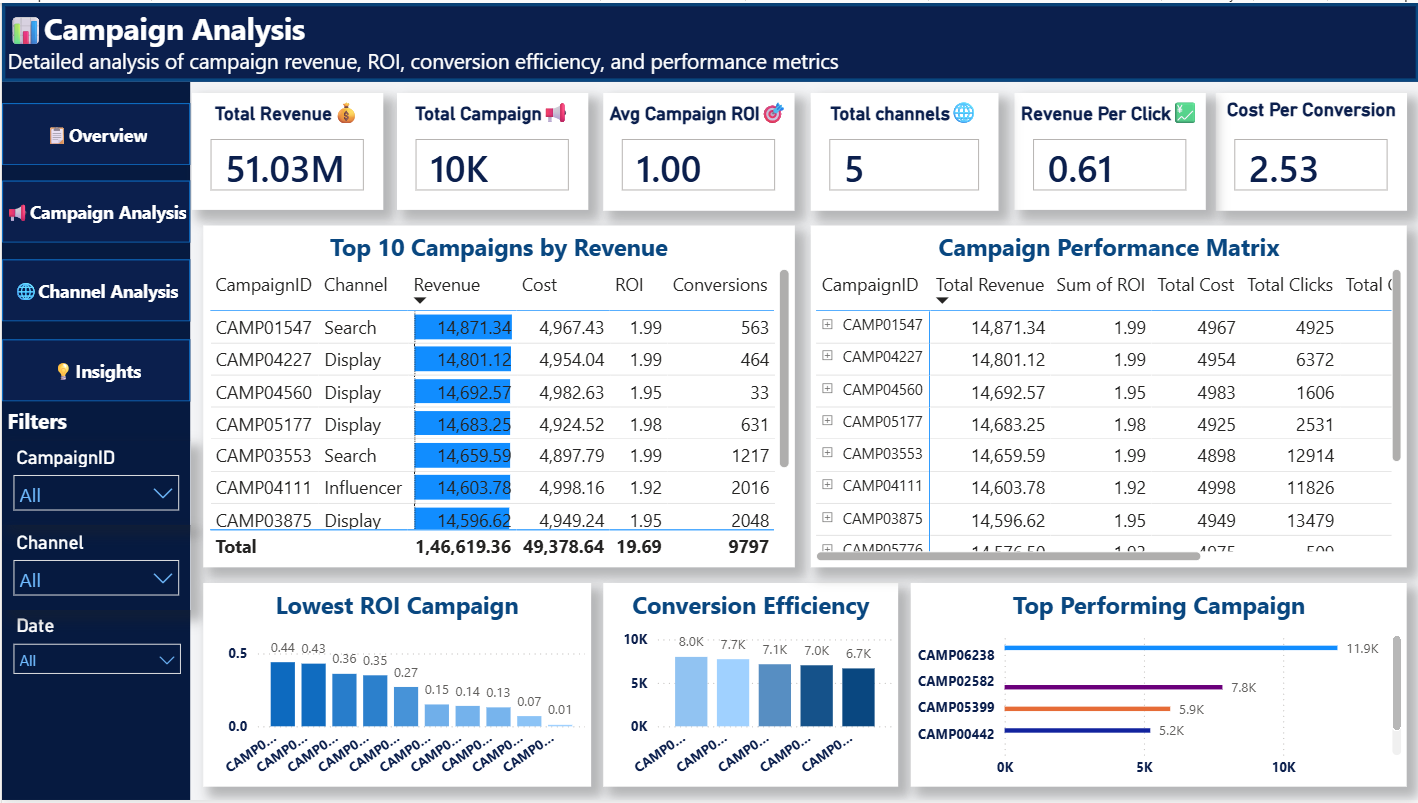

What the dashboard file says about the page in this screenshot:
{"tool":"powerbi","page":{"name":"Campaign analysis","canvas":[1280,720],"ordinal":1},"visuals":[{"type":"shape","box":[0,71.1,170,648.9],"z":0},{"type":"textbox","box":[0,0,274.4,71.1],"z":1000},{"type":"shape","box":[0,0,1280,71.1],"z":2000},{"type":"textbox","box":[0,0,999.3,71.1],"z":3000},{"type":"slicer","fields":{"Values":["marketing_campaign_performance_.StartDate.Variation.Date Hierarchy.Year","marketing_campaign_performance_.StartDate.Variation.Date Hierarchy.Quarter","marketing_campaign_performance_.StartDate.Variation.Date Hierarchy.Month"]},"box":[0,547.1,171.4,71.4],"z":4000},{"type":"cardVisual","title":"Total Revenue💰","fields":{"Data":["marketing_campaign_performance_.TTOTAL REVENUE"]},"box":[171.4,81.4,172.9,105.7],"z":5000},{"type":"cardVisual","title":"Total Campaign📢","fields":{"Data":["marketing_campaign_performance_.Total Campaigns"]},"box":[357.1,81.4,172.9,105.7],"z":6000},{"type":"cardVisual","title":"Avg Campaign ROI🎯","fields":{"Data":["marketing_campaign_performance_.Avg campaign ROI"]},"box":[543.1,81.3,172.8,106.1],"z":7000},{"type":"cardVisual","title":"Cost Per Conversion","fields":{"Data":["marketing_campaign_performance_.Cost Per Conversion"]},"box":[1096.4,81.3,172.8,106.1],"z":8000},{"type":"cardVisual","title":"Revenue Per Click💹","fields":{"Data":["marketing_campaign_performance_.REVENUE PER CLICK"]},"box":[914.3,81.4,172.9,105.7],"z":9000},{"type":"cardVisual","title":"Total channels🌐","fields":{"Data":["marketing_campaign_performance_.Total Channels"]},"box":[730.6,81.3,169.4,106.1],"z":10000},{"type":"slicer","fields":{"Values":["marketing_campaign_performance_.CampaignID"]},"box":[0,395.7,170,75.7],"z":11000},{"type":"slicer","fields":{"Values":["marketing_campaign_performance_.Channel"]},"box":[0,471.4,170,75.7],"z":12000},{"type":"textbox","box":[0,360,170,35.7],"z":13000},{"type":"tableEx","title":"Top 10 Campaigns by Revenue","fields":{"Values":["marketing_campaign_performance_.CampaignID","marketing_campaign_performance_.Channel","Sum(marketing_campaign_performance_.Revenue_USD)","Sum(marketing_campaign_performance_.Cost_USD)","Sum(marketing_campaign_performance_.ROI)","Sum(marketing_campaign_performance_.Conversions)"]},"box":[181.4,201.4,534.3,308.6],"z":14000},{"type":"clusteredColumnChart","title":"Lowest ROI Campaign","fields":{"Y":["Sum(marketing_campaign_performance_.ROI)"],"Category":["marketing_campaign_performance_.CampaignID"]},"box":[181.8,523.9,350,184.1],"z":15000},{"type":"clusteredColumnChart","title":"Conversion Efficiency","fields":{"Y":["Sum(marketing_campaign_performance_.Conversions)"],"Category":["marketing_campaign_performance_.CampaignID"]},"box":[543.1,523.9,266.5,184.1],"z":16000},{"type":"pivotTable","title":"Campaign Performance Matrix","fields":{"Rows":["marketing_campaign_performance_.CampaignID","marketing_campaign_performance_.Channel"],"Values":["marketing_campaign_performance_.TTOTAL REVENUE","Sum(marketing_campaign_performance_.ROI)","marketing_campaign_performance_.TOTAL COST","marketing_campaign_performance_.TOTAL CLICKS","marketing_campaign_performance_.TOTAL CONVERSION","marketing_campaign_performance_.CONVERSION RATE"]},"box":[730,201.4,538.6,308.6],"z":17000},{"type":"clusteredBarChart","title":"Top Performing Campaign","fields":{"Y":["marketing_campaign_performance_.TTOTAL REVENUE"],"Series":["marketing_campaign_performance_.Channel"],"Category":["marketing_campaign_performance_.CampaignID"]},"box":[820.9,523.9,448.3,184.1],"z":18000},{"type":"shape","box":[0,90,170,56.2],"z":19000},{"type":"shape","box":[0,160,170,56.2],"z":20000},{"type":"shape","box":[0,231.2,170,56.2],"z":21000},{"type":"shape","box":[0,303.8,170,56.2],"z":22000}]}

Visuals, with their boxes on the page's 1280x720 design canvas (x1, y1, x2, y2). These are canvas units, not pixel positions in the 1418x803 screenshot, which may show the page scaled, cropped or inside an application window:
shape: detection(0, 71, 170, 720)
textbox: detection(0, 0, 274, 71)
shape: detection(0, 0, 1280, 71)
textbox: detection(0, 0, 999, 71)
slicer - marketing_campaign_performance_.StartDate.Variation.Date Hierarchy.Year x marketing_campaign_performance_.StartDate.Variation.Date Hierarchy.Quarter: detection(0, 547, 171, 618)
"Total Revenue💰" cardVisual: detection(171, 81, 344, 187)
"Total Campaign📢" cardVisual: detection(357, 81, 530, 187)
"Avg Campaign ROI🎯" cardVisual: detection(543, 81, 716, 187)
"Cost Per Conversion" cardVisual: detection(1096, 81, 1269, 187)
"Revenue Per Click💹" cardVisual: detection(914, 81, 1087, 187)
"Total channels🌐" cardVisual: detection(731, 81, 900, 187)
slicer - marketing_campaign_performance_.CampaignID: detection(0, 396, 170, 471)
slicer - marketing_campaign_performance_.Channel: detection(0, 471, 170, 547)
textbox: detection(0, 360, 170, 396)
"Top 10 Campaigns by Revenue" tableEx: detection(181, 201, 716, 510)
"Lowest ROI Campaign" clusteredColumnChart: detection(182, 524, 532, 708)
"Conversion Efficiency" clusteredColumnChart: detection(543, 524, 810, 708)
"Campaign Performance Matrix" pivotTable: detection(730, 201, 1269, 510)
"Top Performing Campaign" clusteredBarChart: detection(821, 524, 1269, 708)
shape: detection(0, 90, 170, 146)
shape: detection(0, 160, 170, 216)
shape: detection(0, 231, 170, 287)
shape: detection(0, 304, 170, 360)
